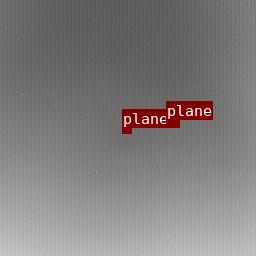plane: (166, 120, 179, 127), (122, 128, 131, 132)
